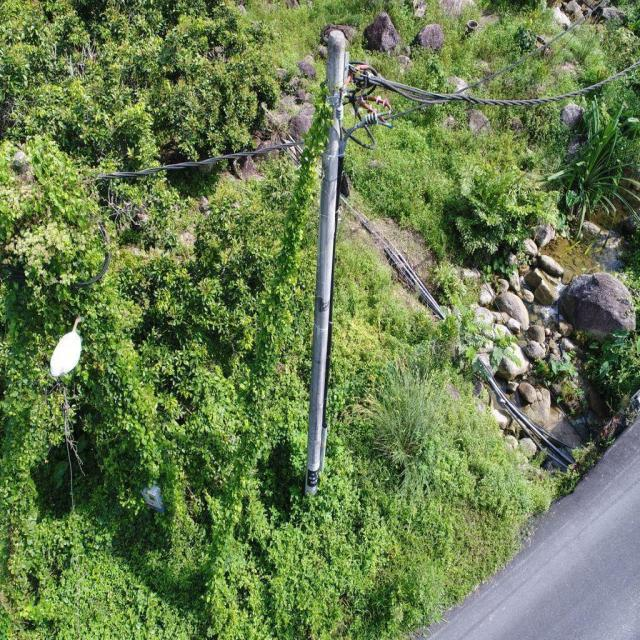critical vegetation: (191, 77, 350, 588)
